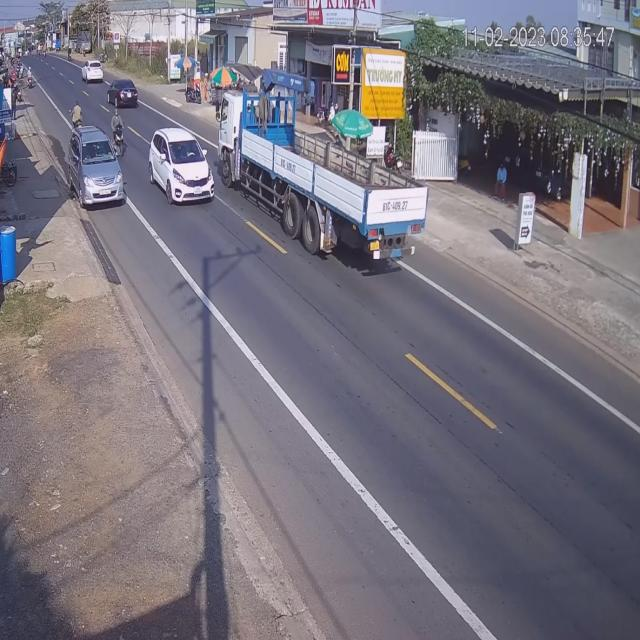car: (152, 128, 217, 210), (68, 126, 123, 208), (107, 80, 138, 112), (83, 59, 105, 85)
motorbike: (112, 110, 124, 155), (70, 102, 83, 129)
truck: (220, 70, 423, 260)
